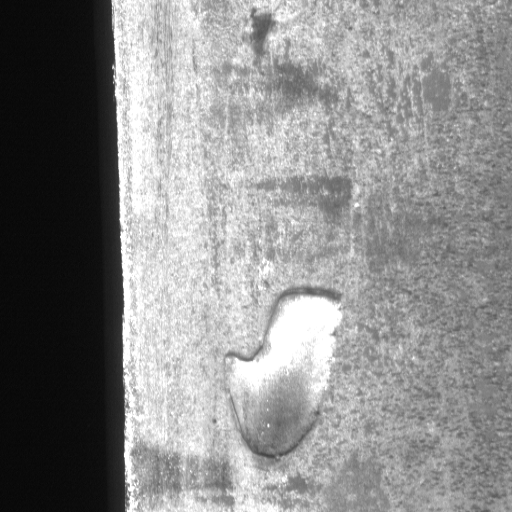aokeng: (219, 281, 346, 458)
